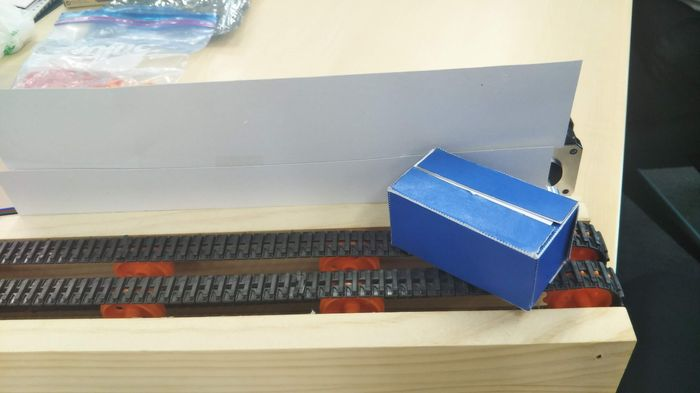box3: (383, 143, 580, 312)
